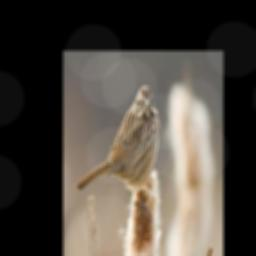Sparrow: (75, 84, 161, 220)
